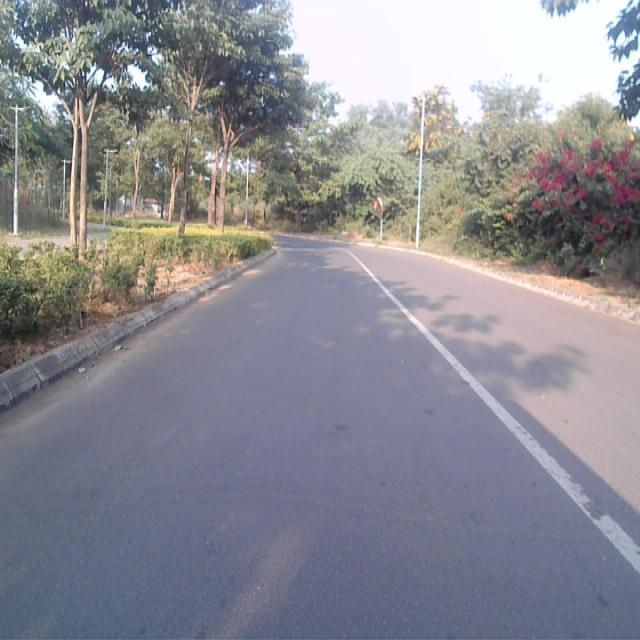lane: (0, 242, 640, 640)
